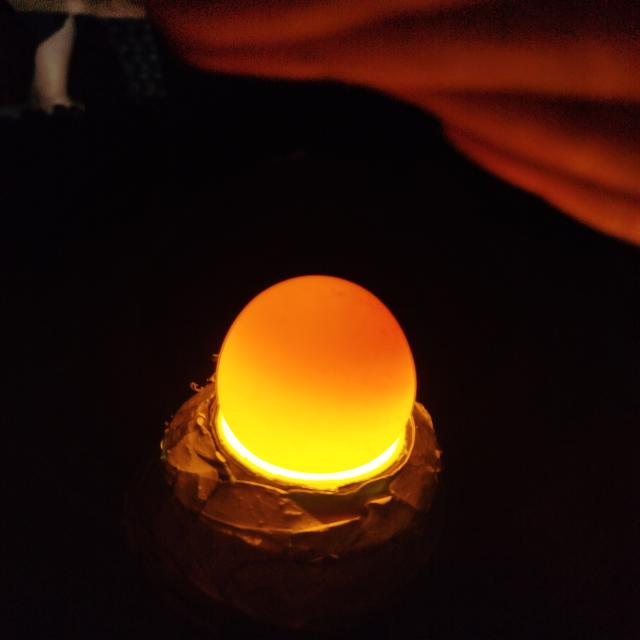Gema Quebrada: (233, 275, 417, 405)
